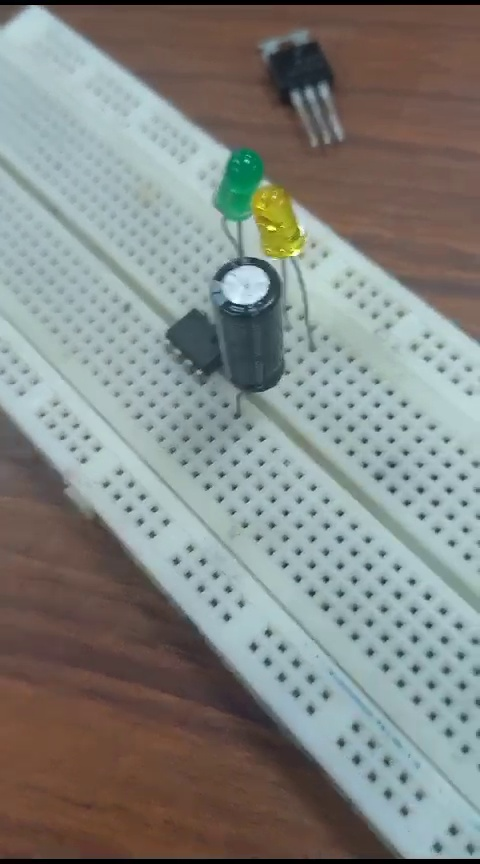IC: (154, 305, 226, 380)
LED: (251, 188, 331, 299), (207, 140, 259, 227)
capacitor: (202, 253, 303, 397)
voltage regulator: (243, 21, 354, 143)
